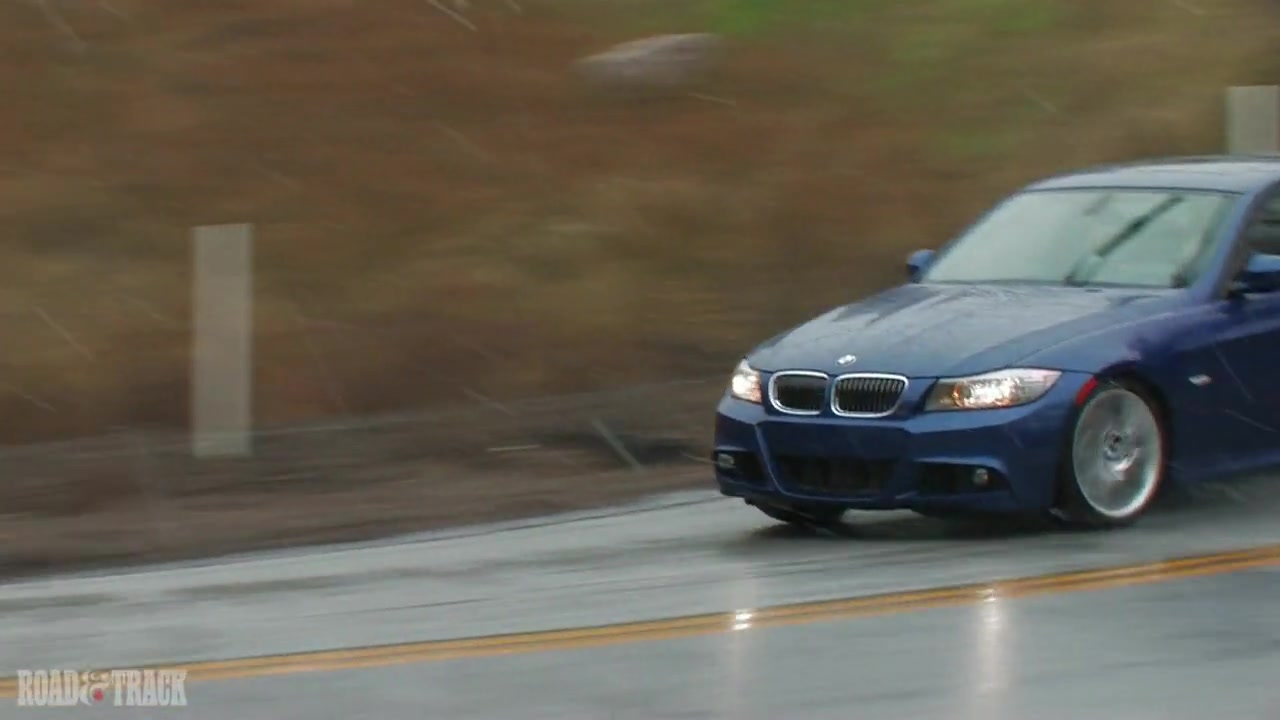car: (710, 149, 1280, 532)
